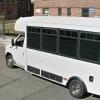Bus: (9, 10, 100, 96)
